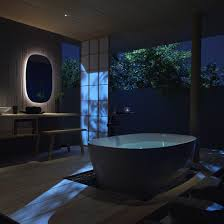bathub: (86, 126, 202, 206)
